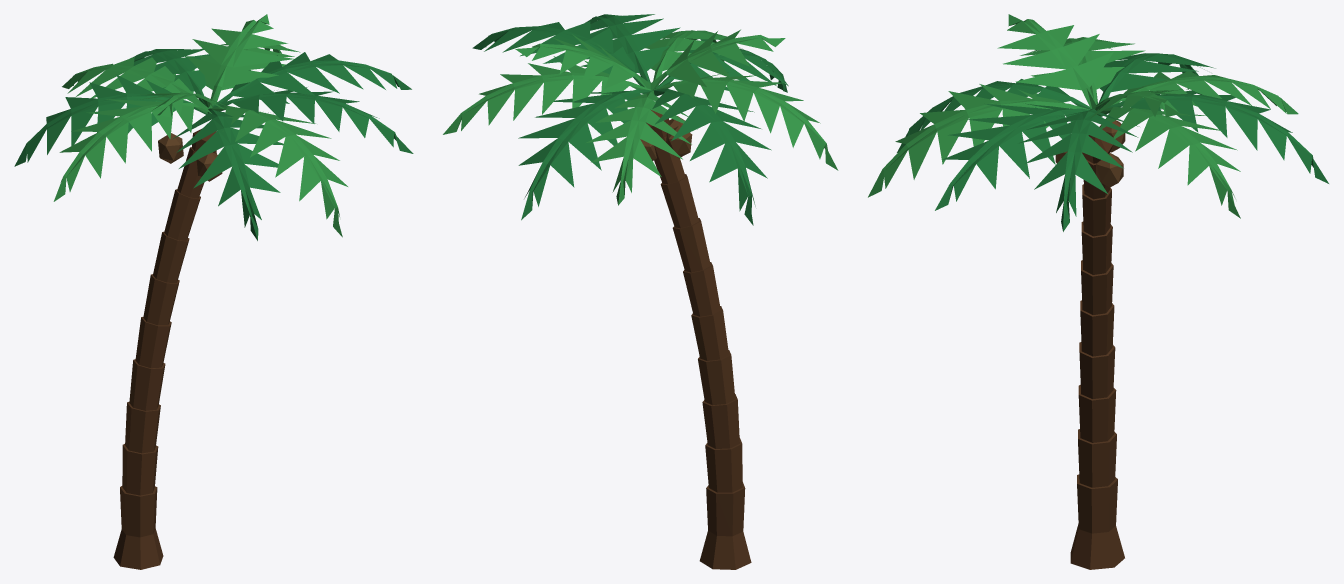
The model's file is beach-palm-1.glb.
The picture shows the model from 3 angles, left to right: view 1: azimuth 30°, elevation 25°; view 2: azimuth 150°, elevation 25°; view 3: azimuth 270°, elevation 25°; orthographic projection. The views are drawn at different scales.
Parts seen in each view (by area): view 1: BeachPalm1; view 2: BeachPalm1; view 3: BeachPalm1.
Boxes of the visible parts, left/top/right/bottom form: BeachPalm1: left=14, top=14, right=413, bottom=569; BeachPalm1: left=443, top=14, right=838, bottom=569; BeachPalm1: left=868, top=14, right=1328, bottom=569.
Size of the model in its own units: 6.45 by 8.32 by 6.47.
